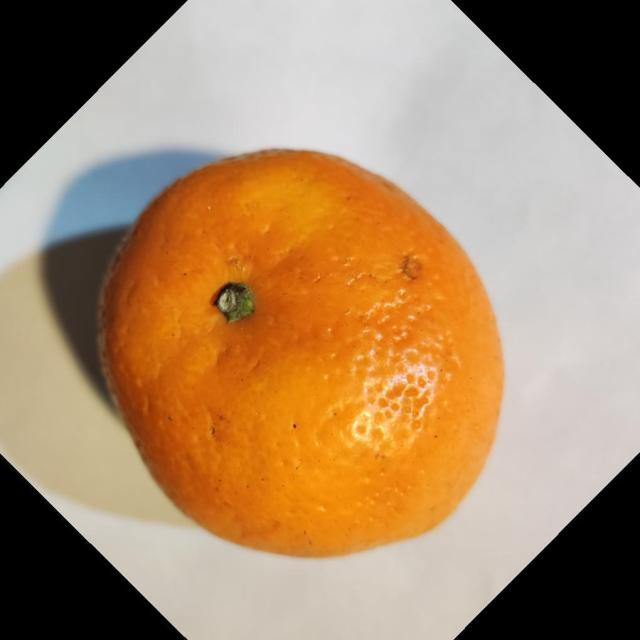fresh orange: (96, 146, 506, 558)
